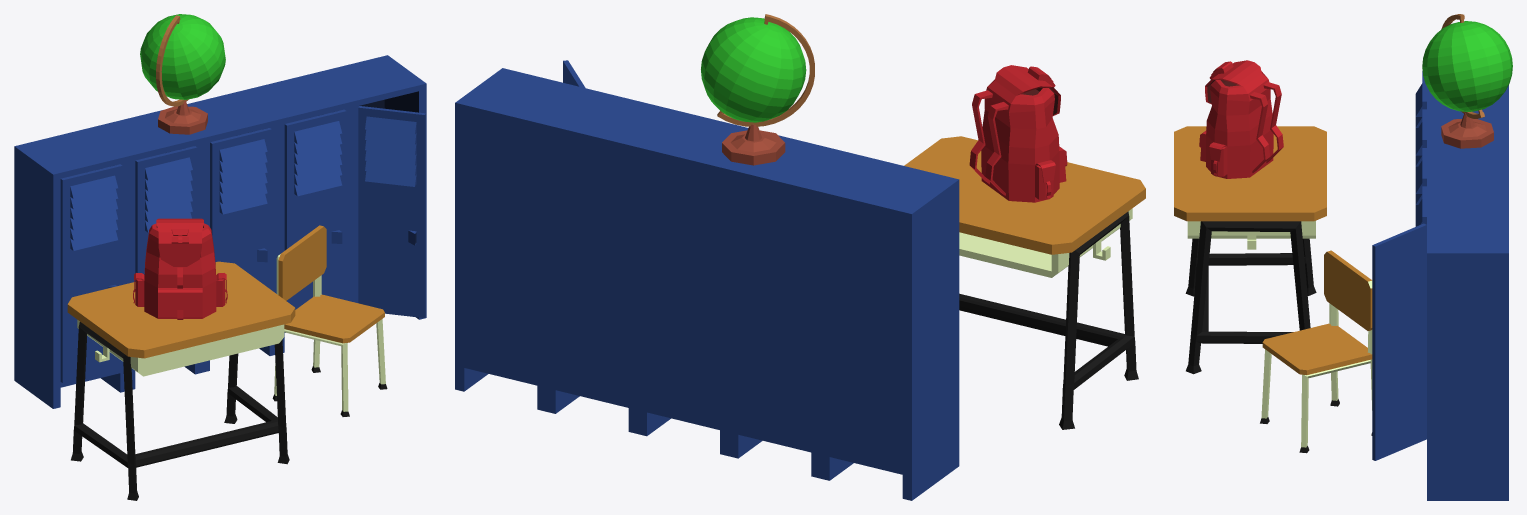
The model's file is Desk.fbx.
3 renders of one model, left to right at view 1: azimuth 30°, elevation 25°; view 2: azimuth 150°, elevation 25°; view 3: azimuth 270°, elevation 25°, orthographic. The views are drawn at different scales.
Parts seen in each view (by area): view 1: O_Lockers, O_Table, O_Backpack, O_Chair, O_Globe; view 2: O_Lockers, O_Table, O_Globe, O_Backpack; view 3: O_Lockers, O_Table, O_Chair, O_Globe, O_Backpack.
Part boxes in pixels (x1,y1,x2,y2): O_Lockers: (14, 55, 426, 408); O_Table: (67, 261, 295, 500); O_Backpack: (133, 218, 227, 319); O_Chair: (272, 225, 387, 416); O_Globe: (140, 14, 225, 134); O_Lockers: (455, 60, 959, 500); O_Table: (904, 136, 1145, 429); O_Globe: (701, 14, 814, 165); O_Backpack: (969, 65, 1067, 202); O_Lockers: (1372, 71, 1508, 500); O_Table: (1174, 126, 1326, 374); O_Chair: (1260, 250, 1372, 453); O_Globe: (1422, 14, 1512, 148); O_Backpack: (1199, 60, 1283, 178).
Bounding box in the file's own units: 1104 × 894 × 744.
